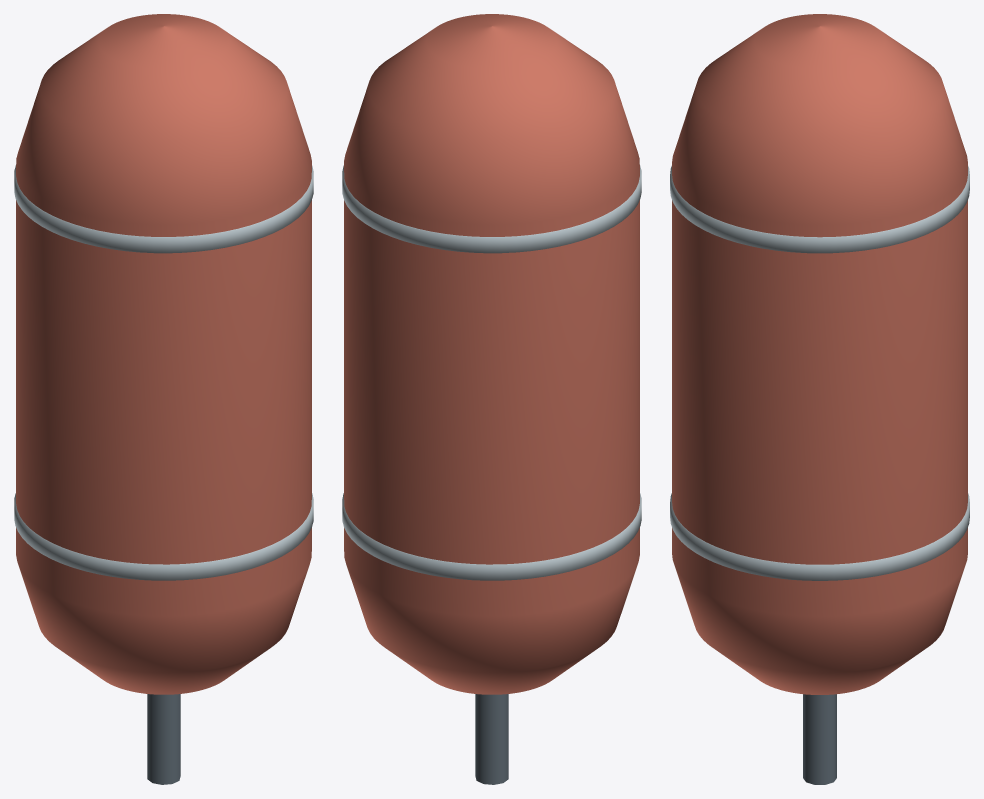
The model's file is columbia_sps_oxidizer_tank.glb.
3 views of the same model, side by side, from view 1: azimuth 30°, elevation 25°; view 2: azimuth 150°, elevation 25°; view 3: azimuth 270°, elevation 25° (orthographic).
Visible parts, largest first — view 1: apollo_smcutawaysps_oxidizer_1mesh.mesh_Cutaway_•_SPS_oxidiz, apollo_smcutawaysps_oxidizer_1mesh.mesh_Satin_aluminum, apollo_smcutawaysps_oxidizer_1mesh.mesh_Machined_steel; view 2: apollo_smcutawaysps_oxidizer_1mesh.mesh_Cutaway_•_SPS_oxidiz, apollo_smcutawaysps_oxidizer_1mesh.mesh_Satin_aluminum, apollo_smcutawaysps_oxidizer_1mesh.mesh_Machined_steel; view 3: apollo_smcutawaysps_oxidizer_1mesh.mesh_Cutaway_•_SPS_oxidiz, apollo_smcutawaysps_oxidizer_1mesh.mesh_Satin_aluminum, apollo_smcutawaysps_oxidizer_1mesh.mesh_Machined_steel.
Part boxes in pixels (left/top/right/bottom): apollo_smcutawaysps_oxidizer_1mesh.mesh_Cutaway_•_SPS_oxidiz: left=16, top=14, right=311, bottom=694; apollo_smcutawaysps_oxidizer_1mesh.mesh_Satin_aluminum: left=14, top=165, right=313, bottom=580; apollo_smcutawaysps_oxidizer_1mesh.mesh_Machined_steel: left=147, top=694, right=180, bottom=784; apollo_smcutawaysps_oxidizer_1mesh.mesh_Cutaway_•_SPS_oxidiz: left=344, top=14, right=639, bottom=694; apollo_smcutawaysps_oxidizer_1mesh.mesh_Satin_aluminum: left=342, top=165, right=641, bottom=580; apollo_smcutawaysps_oxidizer_1mesh.mesh_Machined_steel: left=475, top=694, right=508, bottom=784; apollo_smcutawaysps_oxidizer_1mesh.mesh_Cutaway_•_SPS_oxidiz: left=672, top=14, right=967, bottom=694; apollo_smcutawaysps_oxidizer_1mesh.mesh_Satin_aluminum: left=670, top=166, right=969, bottom=580; apollo_smcutawaysps_oxidizer_1mesh.mesh_Machined_steel: left=803, top=694, right=836, bottom=784.
Bounding box in the file's own units: 1.24 × 3.42 × 1.24.
